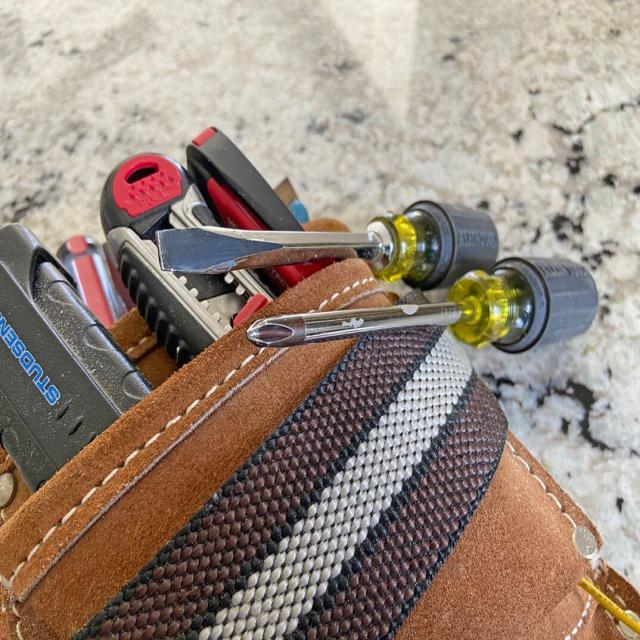Screwdriver: (248, 257, 598, 352), (156, 200, 499, 287)
